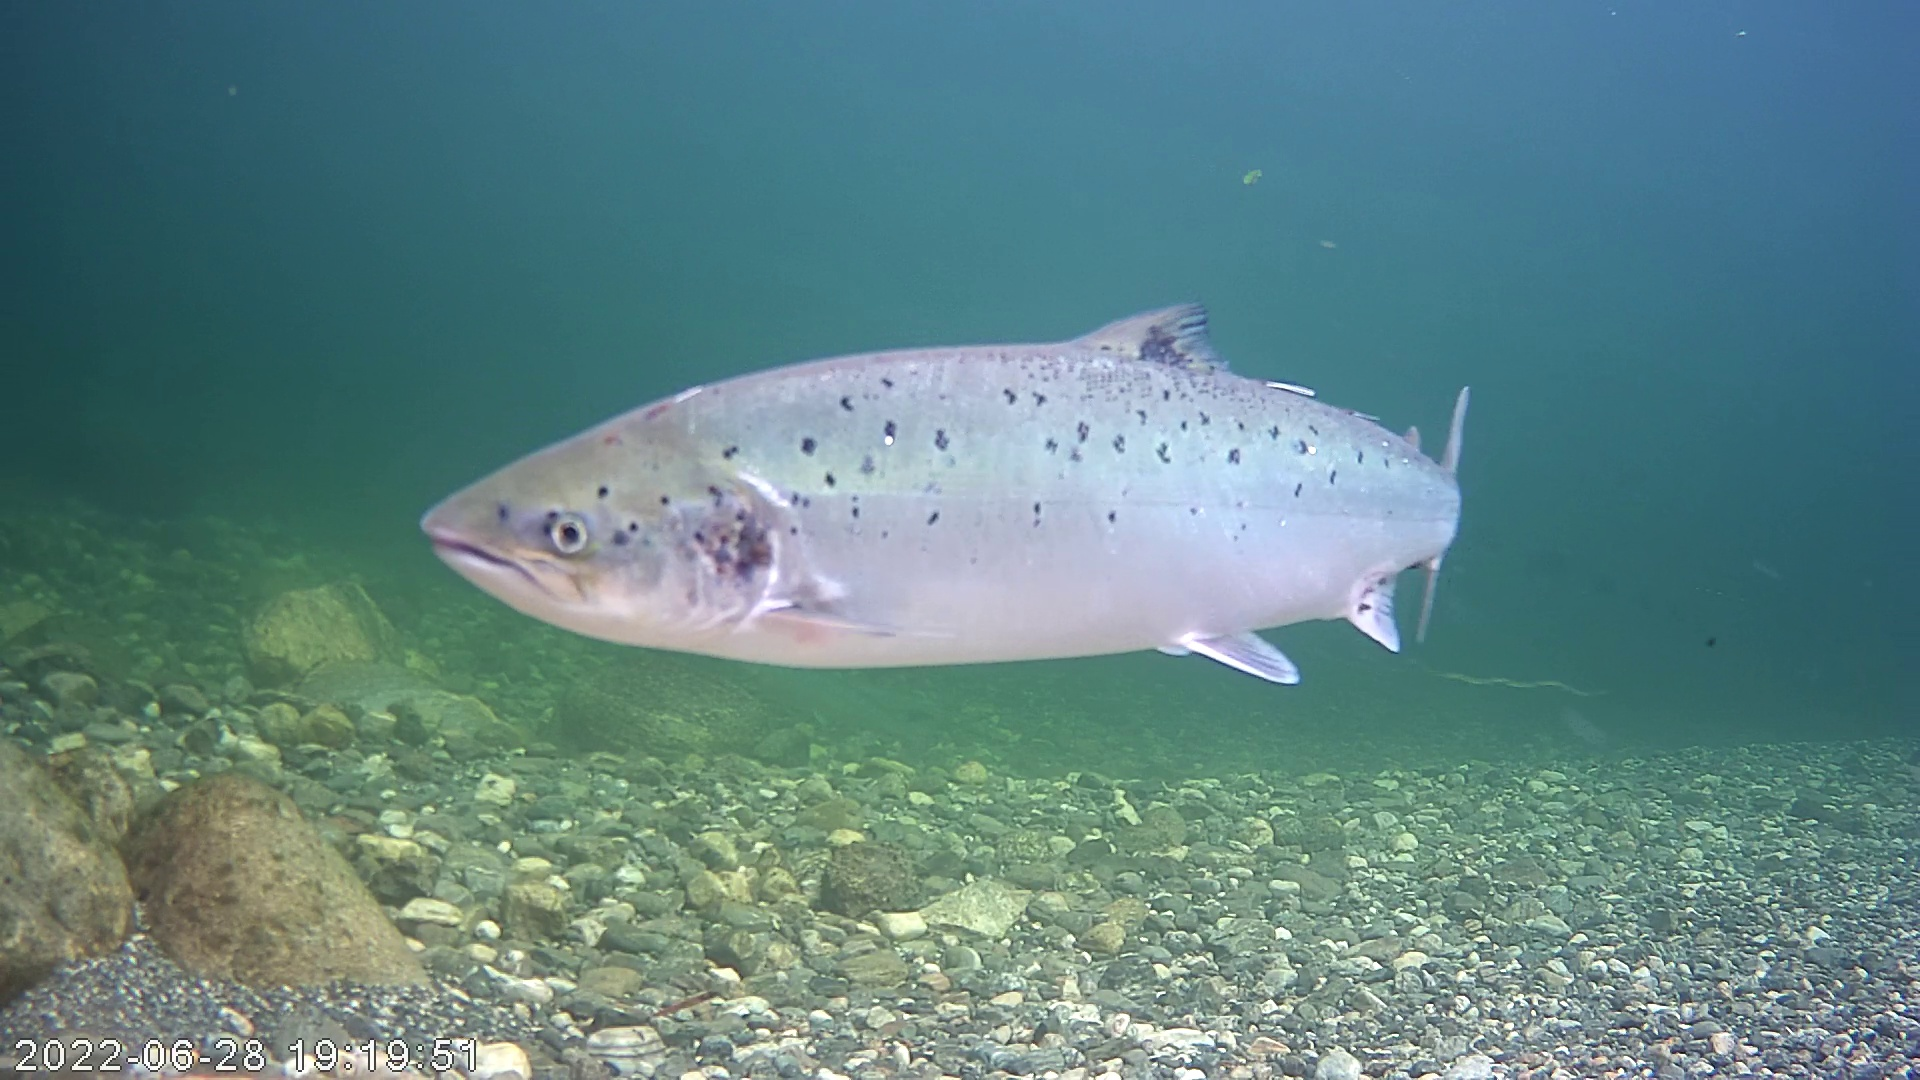salmon: (397, 190, 1480, 669)
